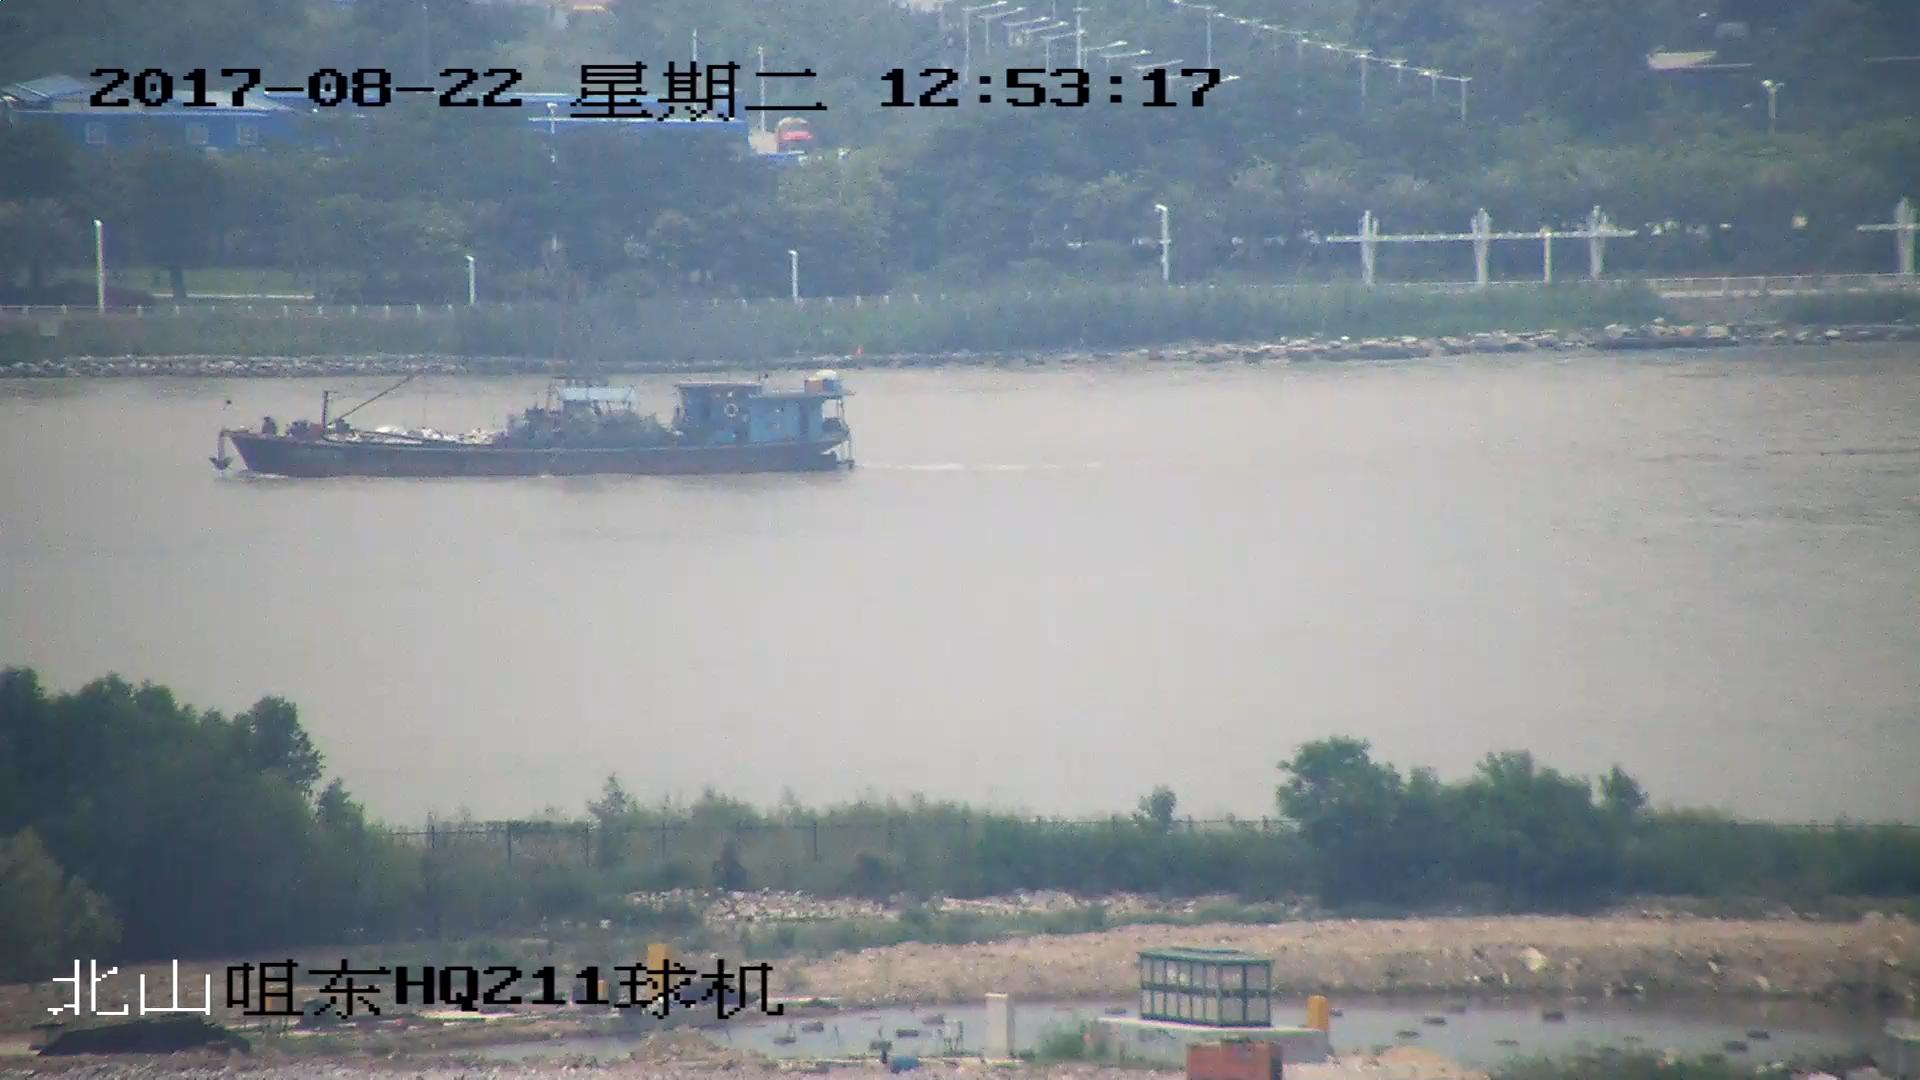fishing boat: (213, 303, 856, 481)
